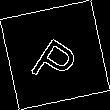P_NE: (25, 23, 85, 87)
